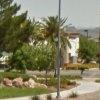Tree: (2, 0, 53, 72)
